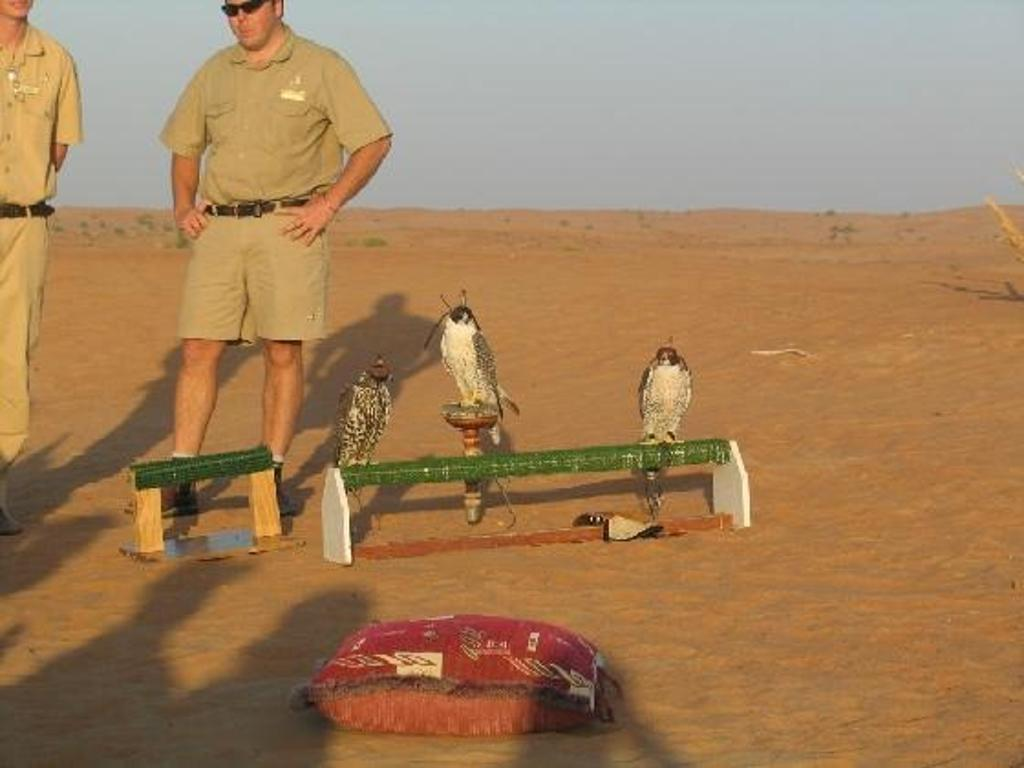face: (225, 0, 274, 47), (1, 0, 32, 17)
